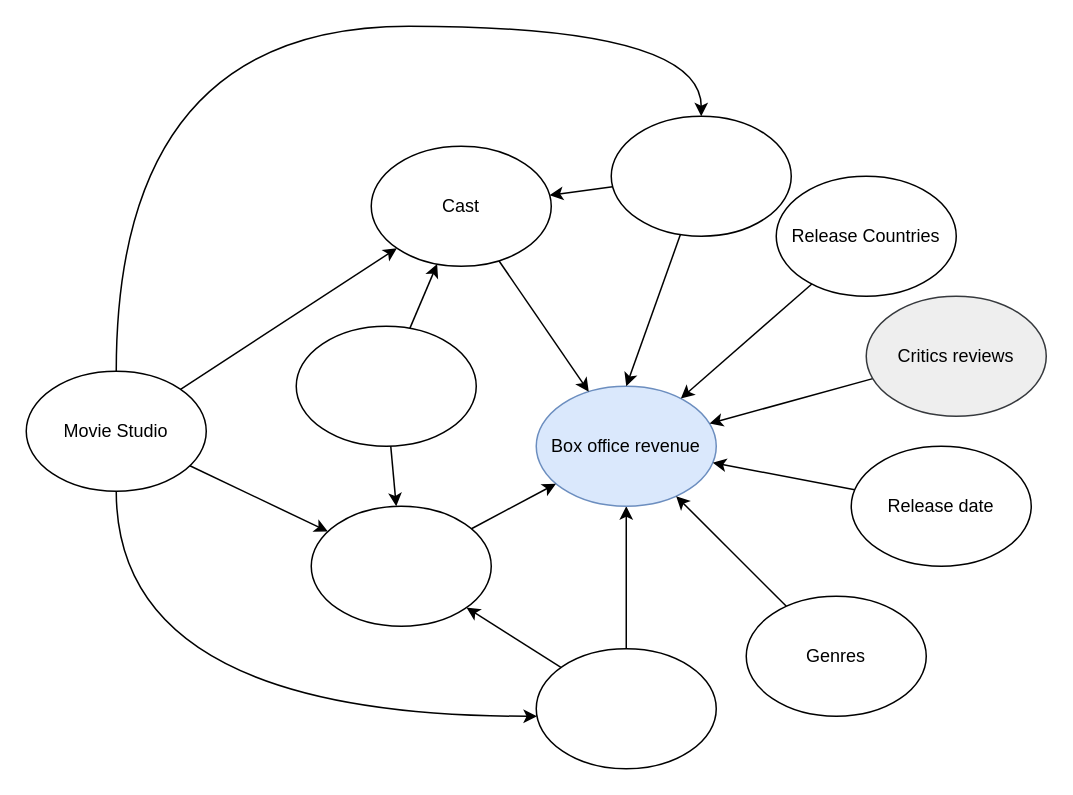
This 1073x795 diagram has some shape labels left out. The box of each missing label's shape, as (x1, y1, x2, y2) in pixels:
Budget: (295, 325, 476, 446)
Director: (535, 647, 716, 769)
Diversity choice: (610, 115, 791, 236)
Production quality: (310, 505, 491, 626)
